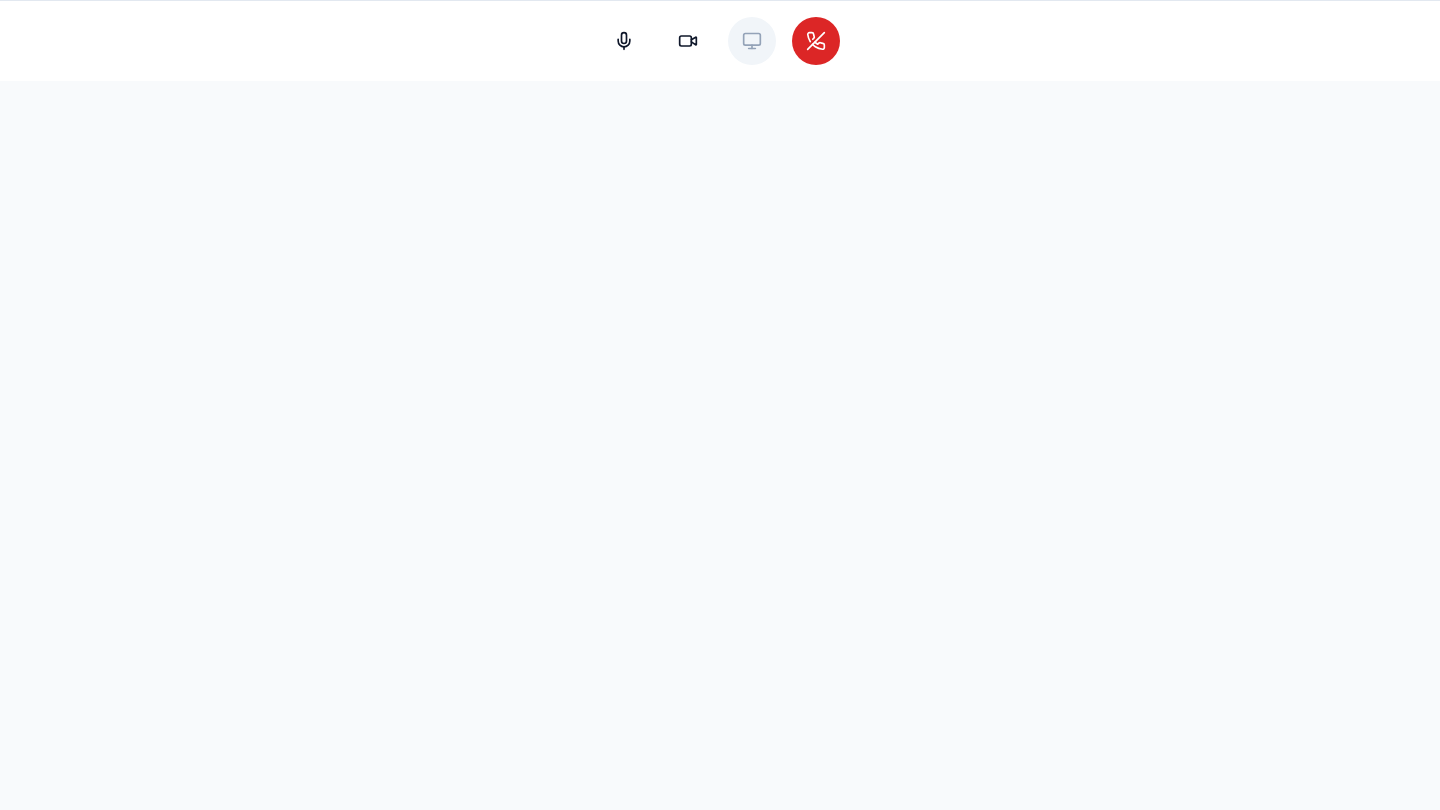
Scenario: CallControls › opens leave confirmation dialog when leave button is clicked
Click the button titled "leave call": (816, 41) [792,17,840,65]
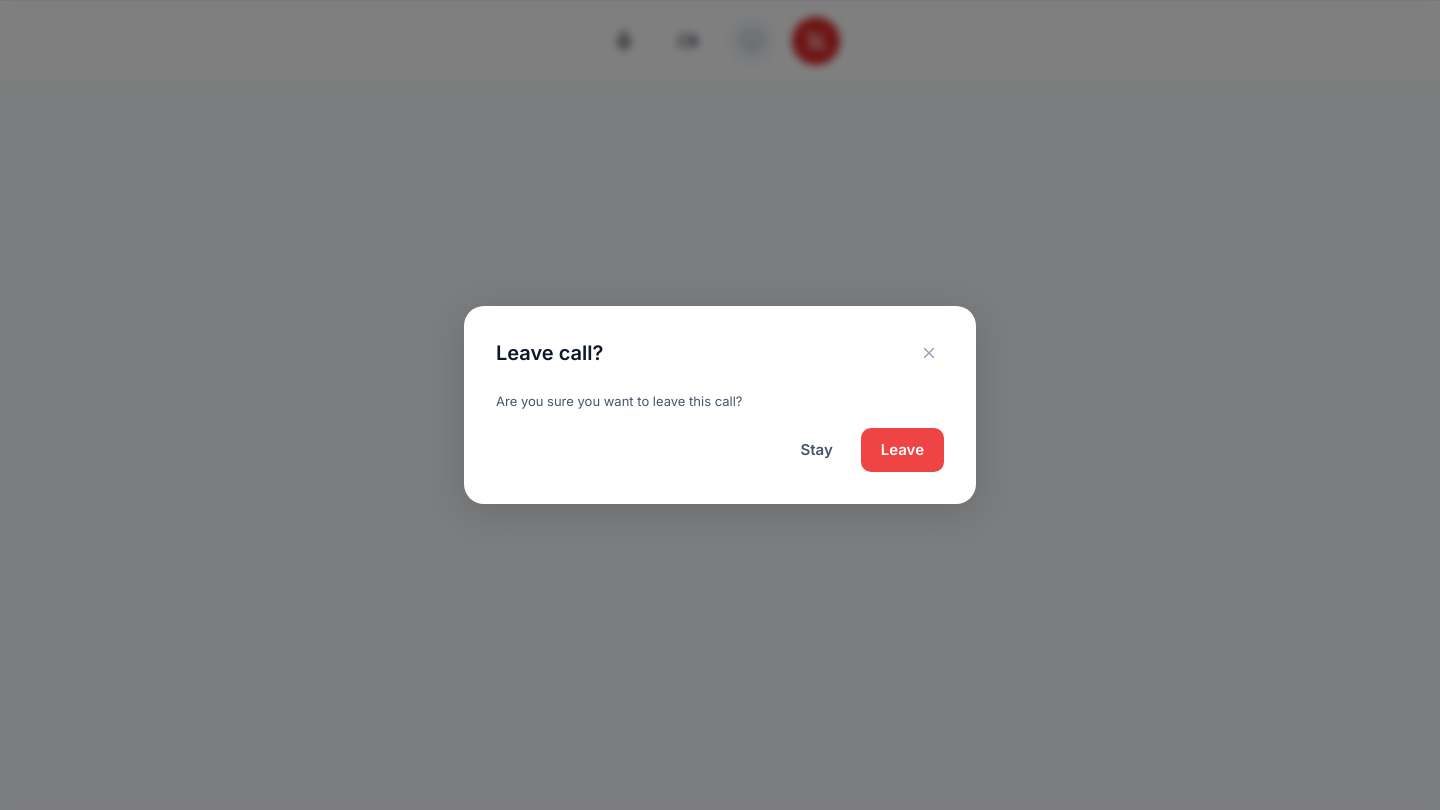
Expected: the text "Are you sure you want to leave this call?" is shown, [496,393,742,409]
